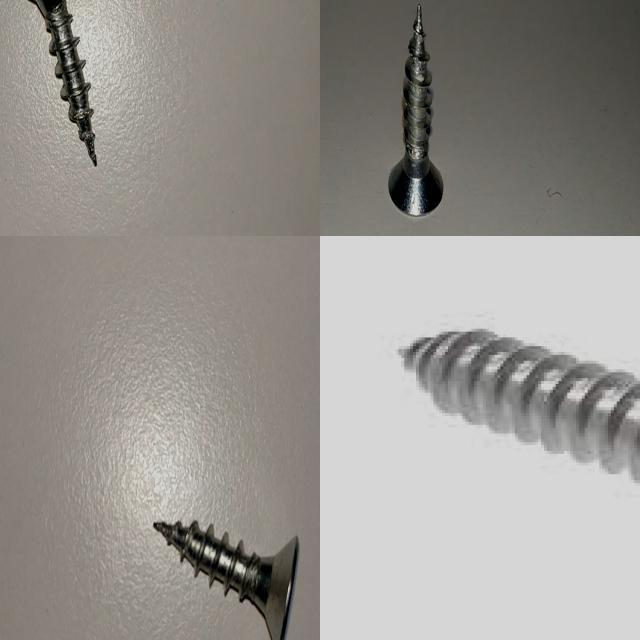Screw: (401, 329, 640, 486), (153, 521, 299, 640), (388, 2, 443, 216), (32, 0, 97, 166)
